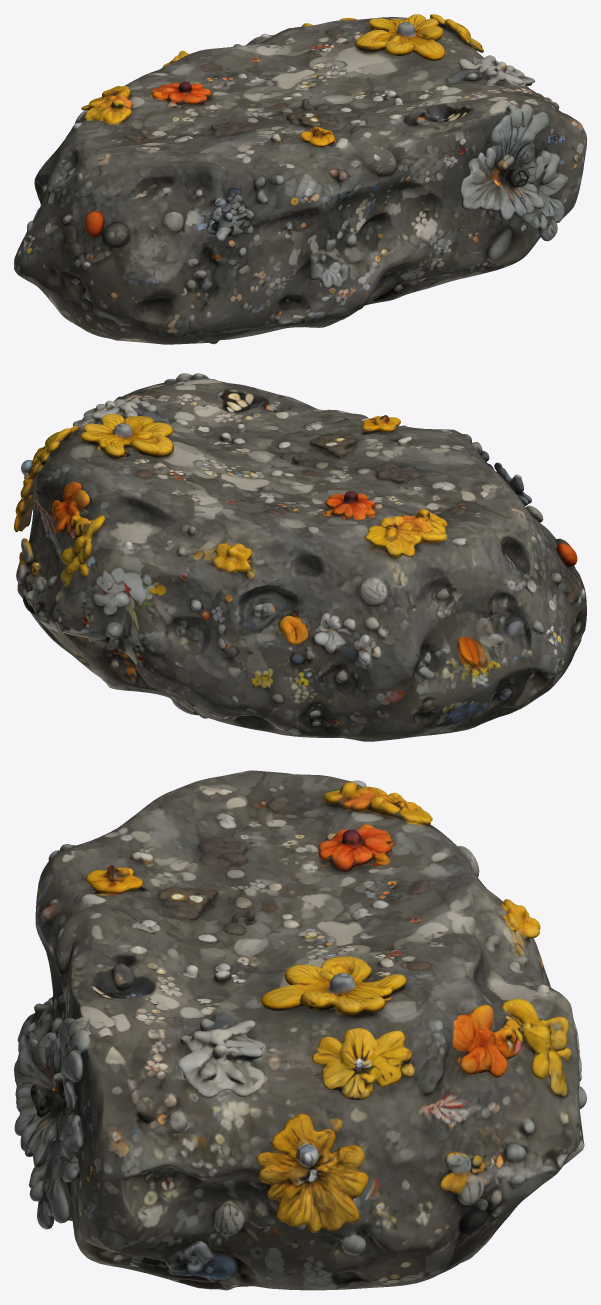
Rendered from nature-lichen-stone.glb.
The picture shows the model from 3 angles, top to bottom: view 1: azimuth 30°, elevation 25°; view 2: azimuth 150°, elevation 25°; view 3: azimuth 270°, elevation 25°; orthographic projection. The views are drawn at different scales.
Parts seen in each view (by area): view 1: tripo_node_f620e869-cf57-43a5-aaa1-330cdbd462b9; view 2: tripo_node_f620e869-cf57-43a5-aaa1-330cdbd462b9; view 3: tripo_node_f620e869-cf57-43a5-aaa1-330cdbd462b9.
Boxes of the visible parts, <box> form: tripo_node_f620e869-cf57-43a5-aaa1-330cdbd462b9: <box>14,14,586,344</box>; tripo_node_f620e869-cf57-43a5-aaa1-330cdbd462b9: <box>14,373,586,741</box>; tripo_node_f620e869-cf57-43a5-aaa1-330cdbd462b9: <box>14,770,586,1290</box>.
Size of the model in its own units: 1.91 by 0.7999 by 1.27.
Materials: 1 (1 with a texture image).
